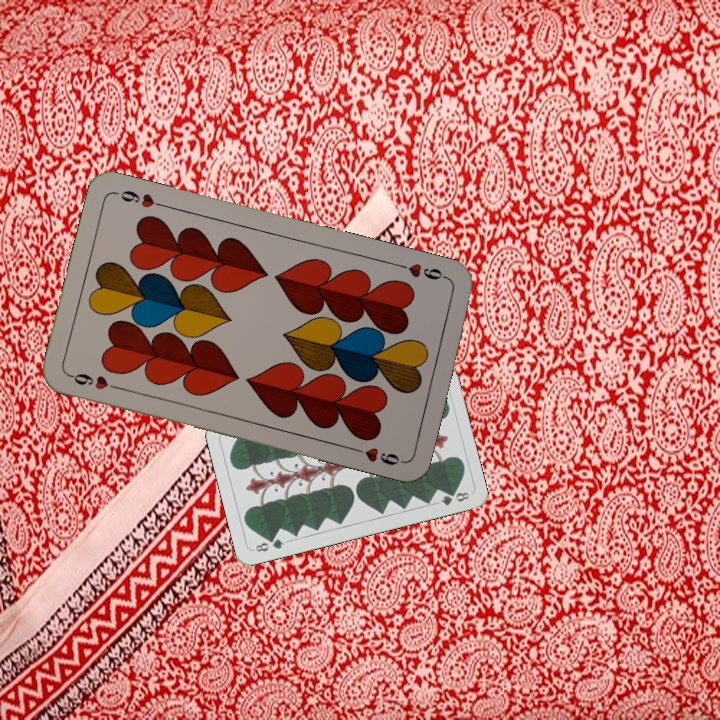G8: (249, 534, 286, 554)
H9: (65, 369, 123, 393), (393, 259, 451, 283)
